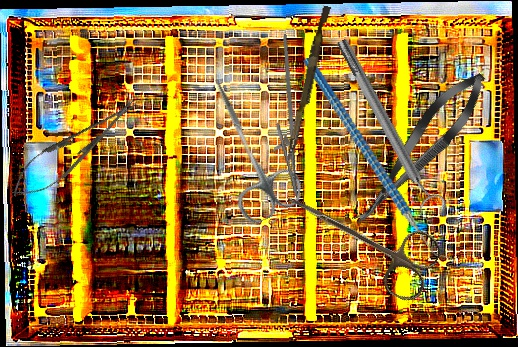Chopper: (302, 34, 457, 286)
Fixation Ring: (328, 32, 450, 223)
Iris Scissors: (270, 170, 447, 306), (183, 66, 310, 228)
Micro Scissor: (342, 62, 497, 236)
Needle Holder: (2, 88, 146, 210), (250, 33, 319, 200)
Pusher: (285, 4, 331, 168)
